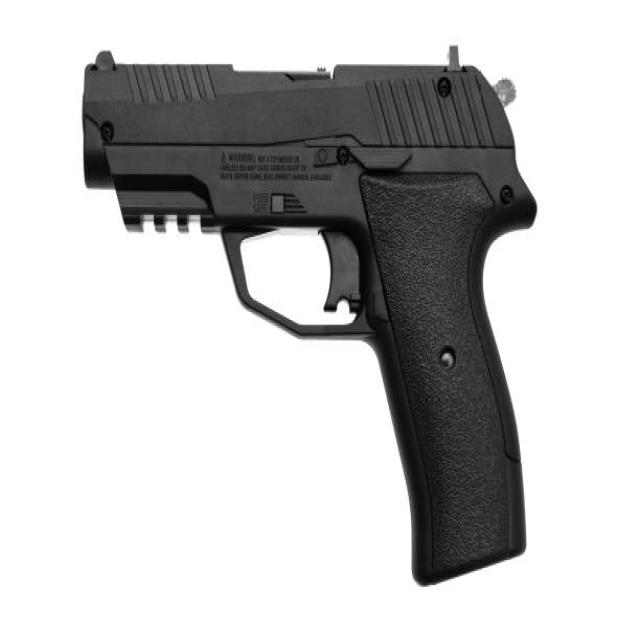pistol: (72, 37, 544, 585)
